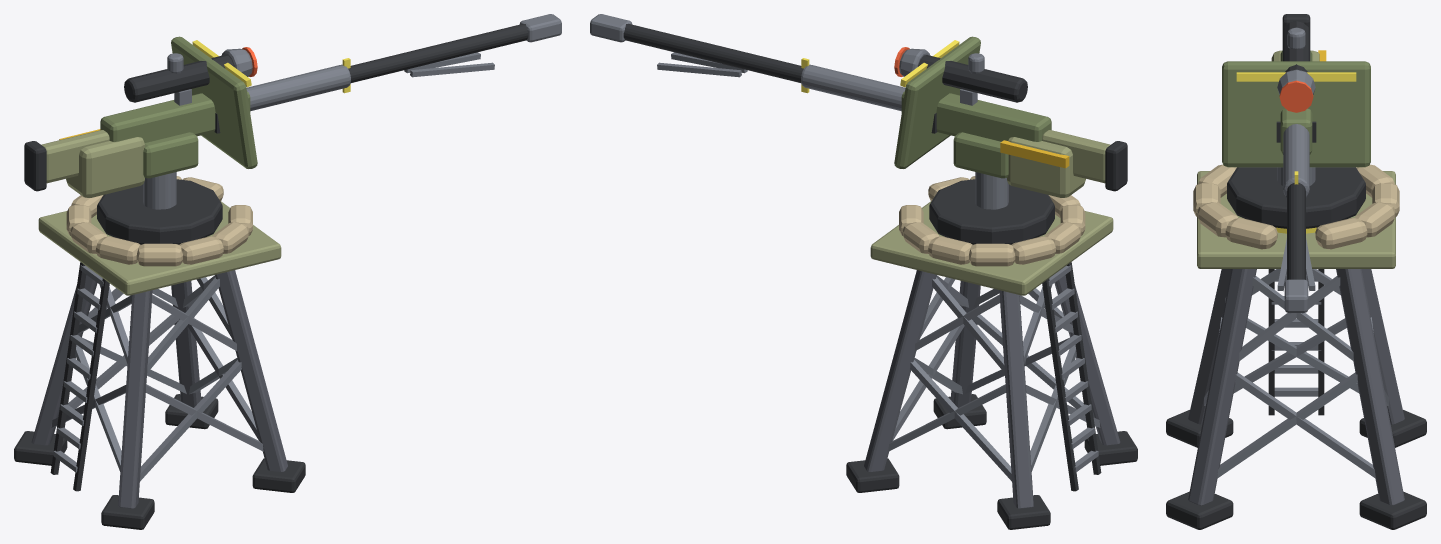
The model's file is torreta_francotirador.obj.
3 views of the same model, side by side, from view 1: azimuth 30°, elevation 25°; view 2: azimuth 150°, elevation 25°; view 3: azimuth 270°, elevation 25° (orthographic). The views are drawn at different scales.
Parts seen in each view (by area): view 1: Base, Barrel, Pivot; view 2: Base, Barrel, Pivot; view 3: Base, Pivot, Barrel.
Part boxes in pixels (box(x1,y1,x2,y2)): Base: box(14, 176, 305, 529); Barrel: box(24, 14, 561, 191); Pivot: box(59, 36, 257, 244); Base: box(846, 176, 1137, 529); Barrel: box(590, 14, 1127, 191); Pivot: box(894, 36, 1085, 244); Base: box(1166, 164, 1426, 529); Pivot: box(1222, 50, 1370, 228); Barrel: box(1277, 14, 1315, 312).
Size of the model in its own units: 5.44 by 4.04 by 2.1.
Materials: 1 (1 with a texture image).
